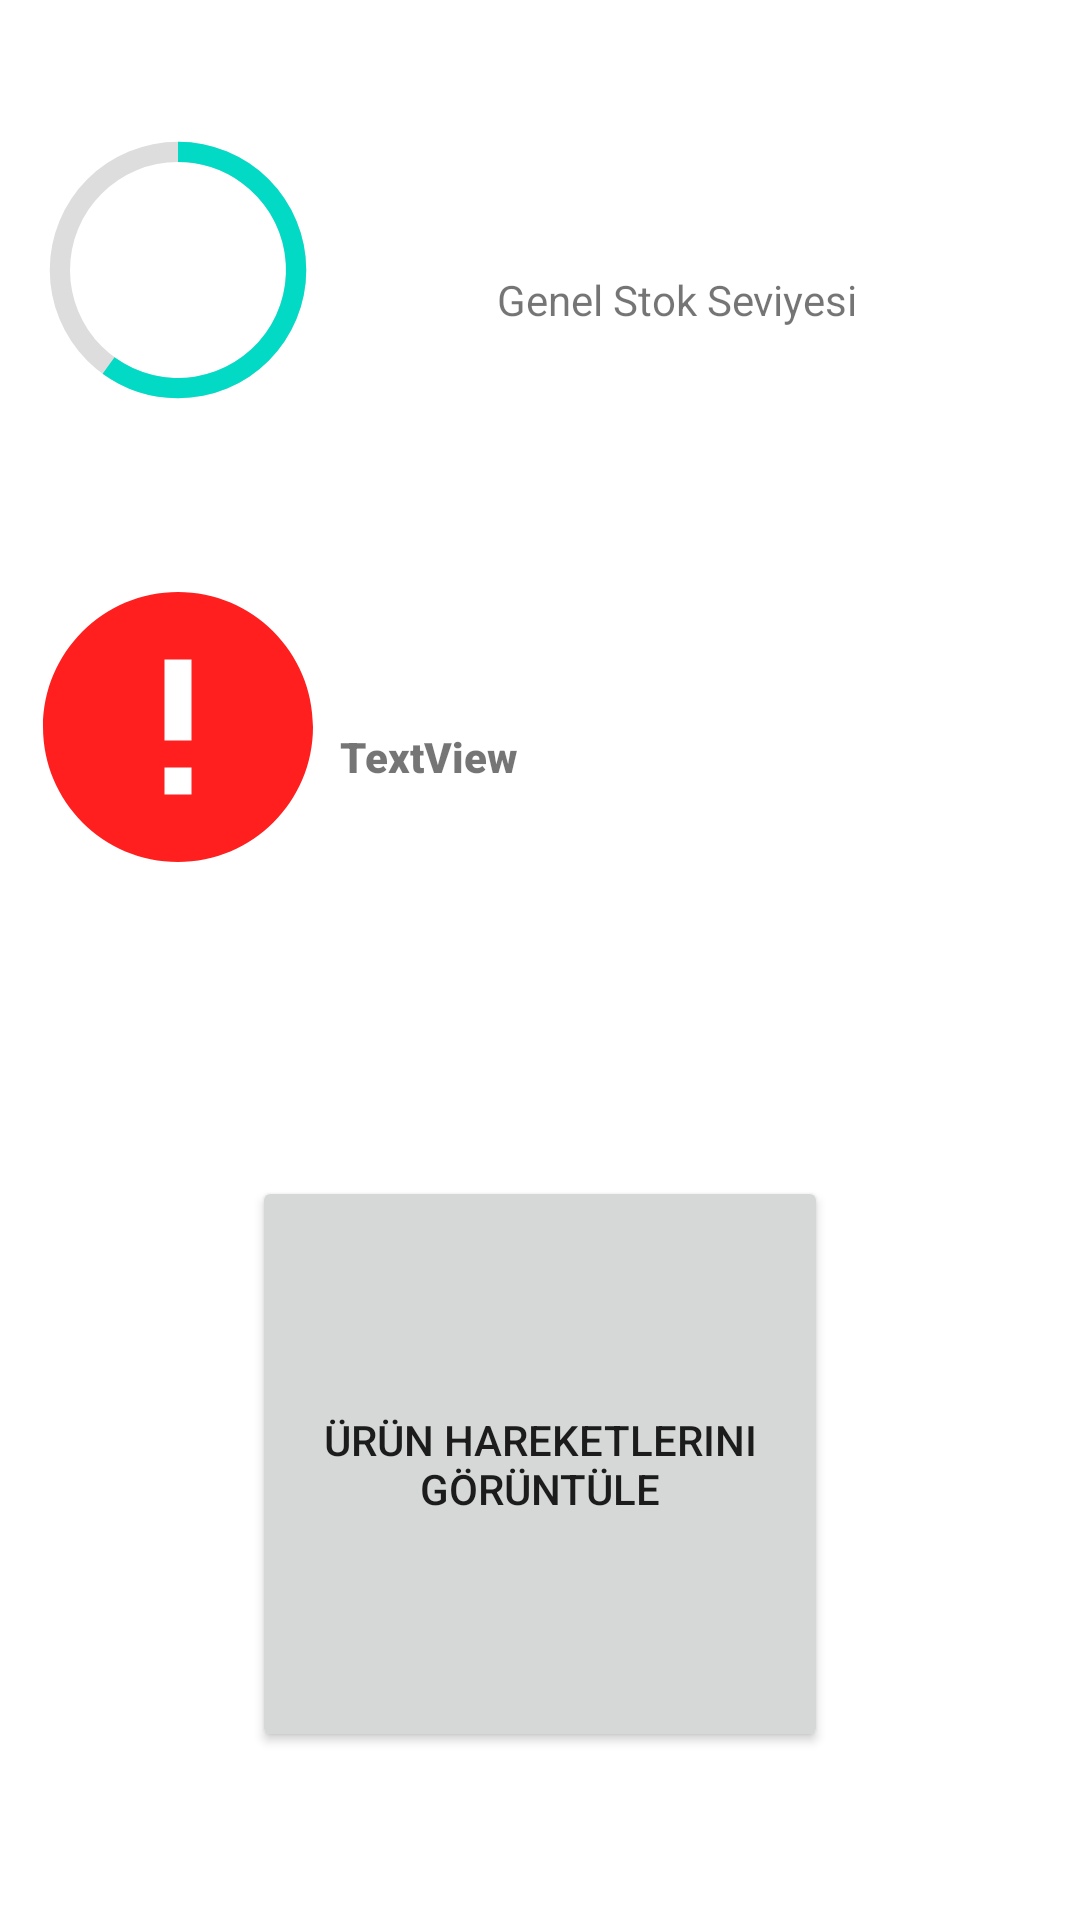

Named icons in this screenshot (1080×1920) and their bounding boxes, (x1, y1, x2, y2):
danger: (43, 592, 313, 862)
